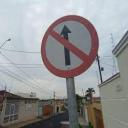NoSeguir: (40, 13, 99, 79)
